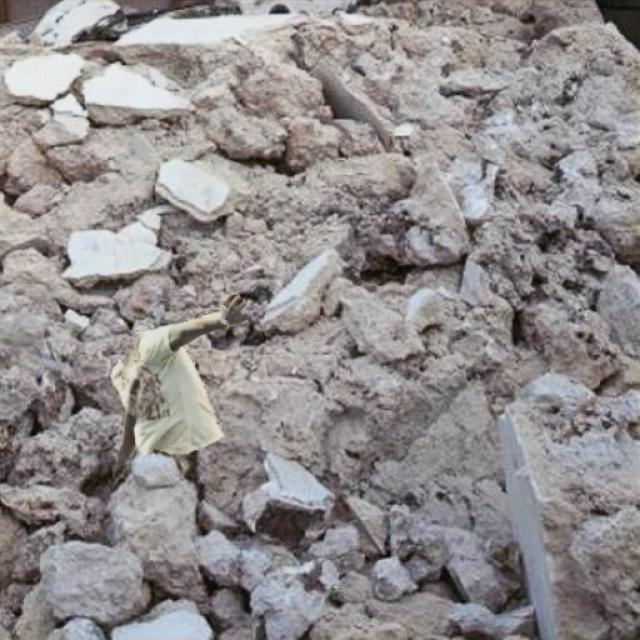Person in Rubble: (108, 295, 246, 484)
